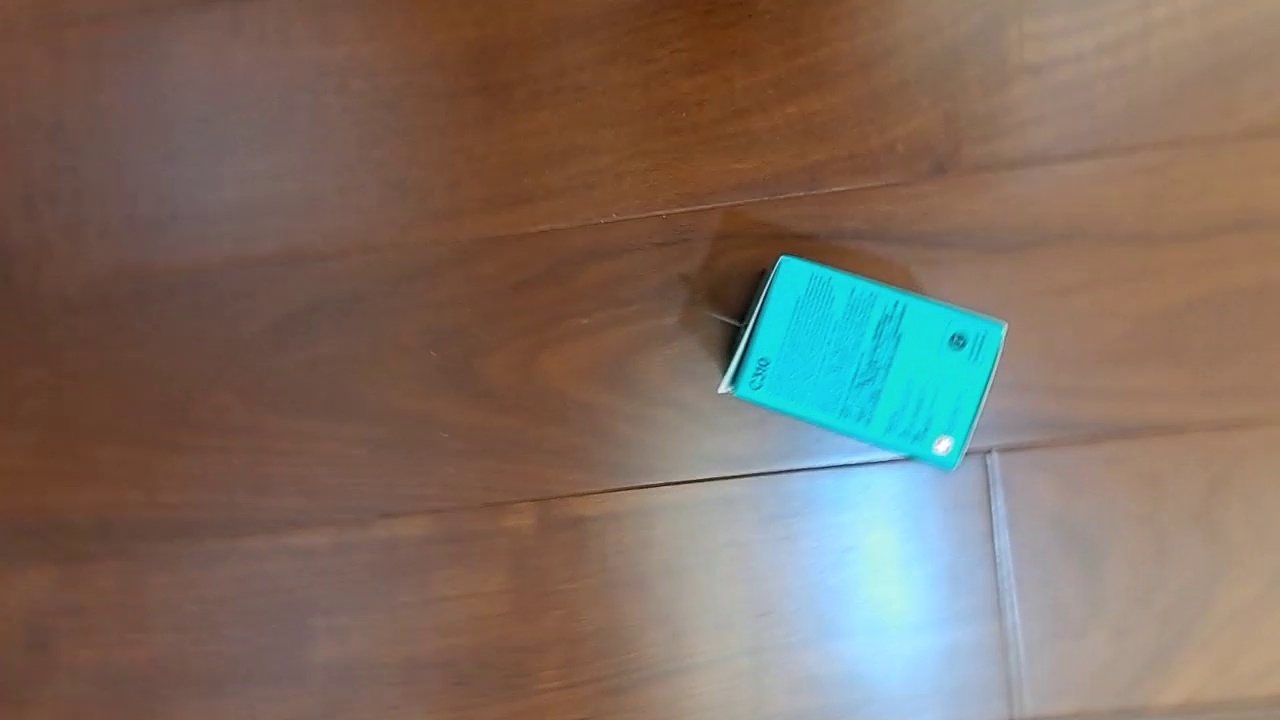webcam: (717, 253, 1009, 474)
